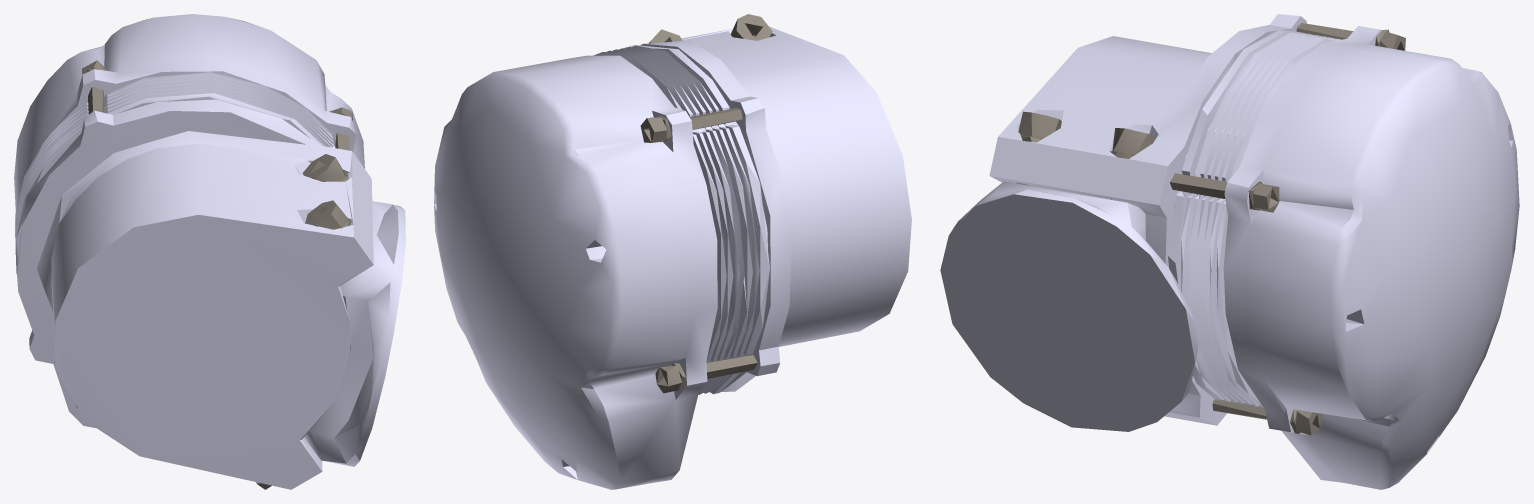
File: left-hip-roll.obj
The picture shows the model from 3 angles, left to right: view 1: azimuth 30°, elevation 25°; view 2: azimuth 150°, elevation 25°; view 3: azimuth 270°, elevation 25°; orthographic projection. The views are drawn at different scales.
Parts seen in each view (by area): view 1: left_hip_roll; view 2: left_hip_roll; view 3: left_hip_roll.
Part boxes in pixels (bbox=[...]): left_hip_roll: bbox=[14, 14, 405, 489]; left_hip_roll: bbox=[434, 14, 911, 489]; left_hip_roll: bbox=[940, 14, 1519, 489].
Bounding box in the file's own units: 0.1189 × 0.1148 × 0.1417.
1 material, 1 textured.
